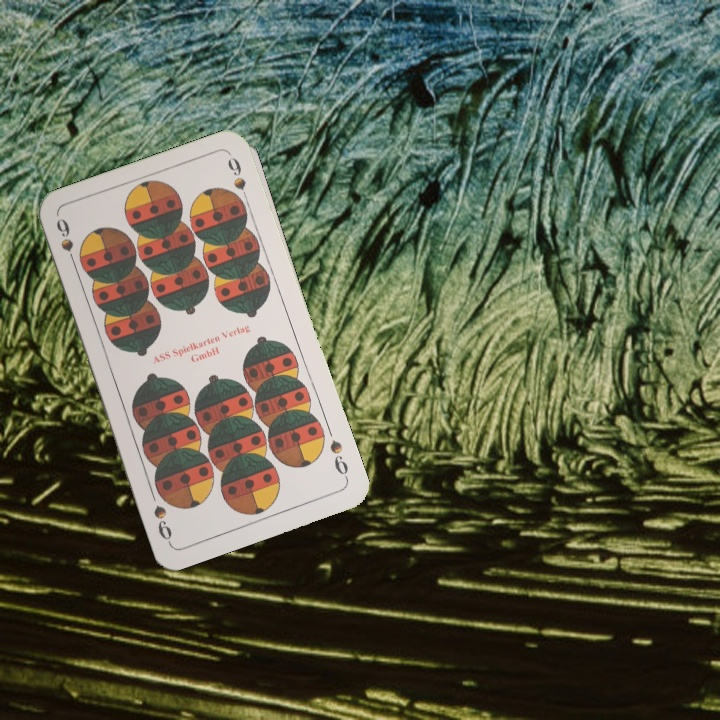S9: (52, 214, 80, 272), (325, 435, 351, 483)
